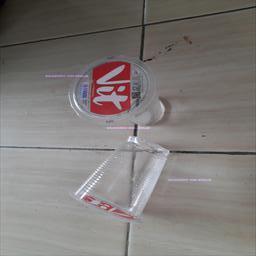plastic: (69, 57, 170, 219)
